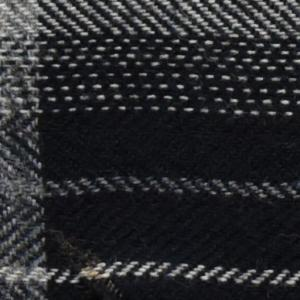Stain: (51, 231, 130, 300)
